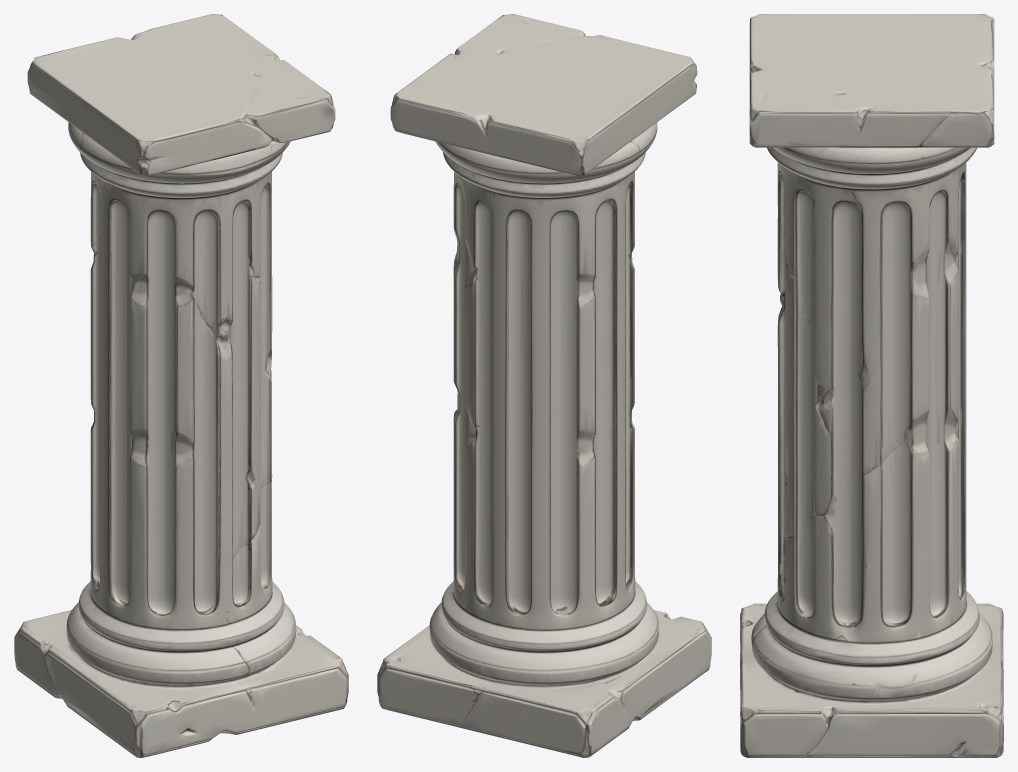
Rendered from prop_column.glb.
3 views of the same model, side by side, from view 1: azimuth 30°, elevation 25°; view 2: azimuth 150°, elevation 25°; view 3: azimuth 270°, elevation 25° (orthographic). The views are drawn at different scales.
Parts seen in each view (by area): view 1: material; view 2: material; view 3: material.
Part boxes in pixels (x1,y1,x2,y2): material: (14, 14, 348, 757); material: (377, 14, 711, 757); material: (740, 14, 1003, 757).
Size of the model in its own units: 0.3918 by 1.07 by 0.3999.
1 material, 1 textured.
